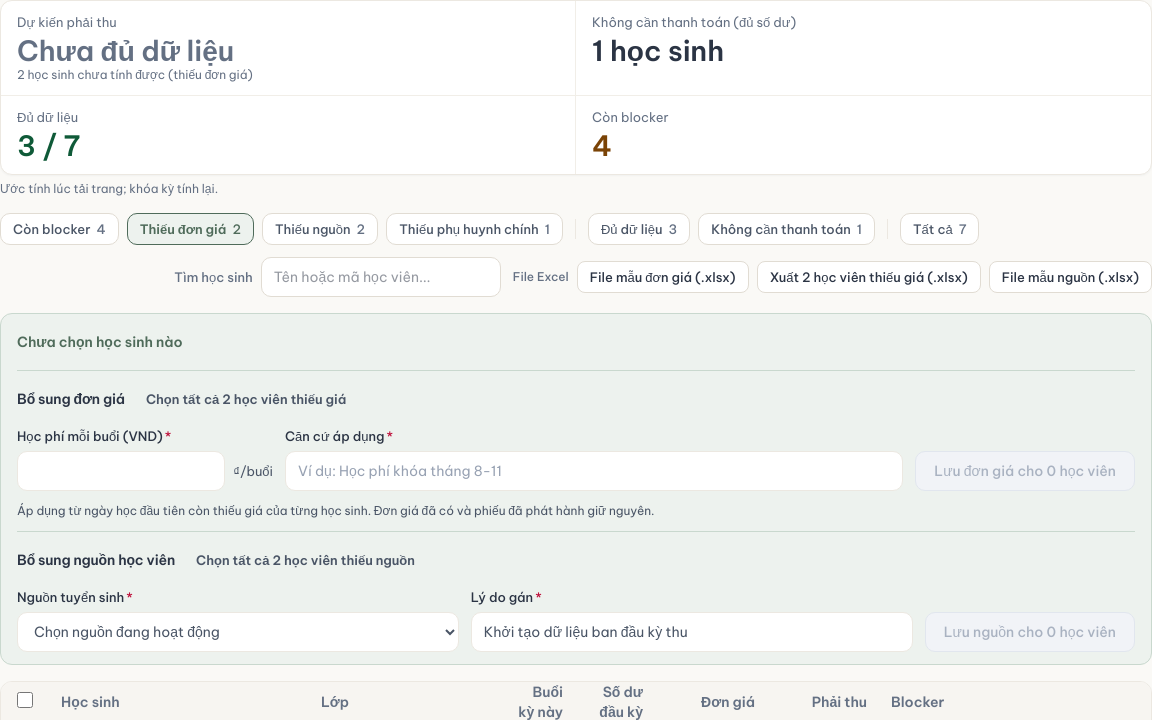
it: TuitionReadinessTable · design 15a › keeps the inputs and alerts on a refused or failed save
Click the button "Chọn tất cả 2 học viên thiếu giá": (246, 399) [133,383,359,415]
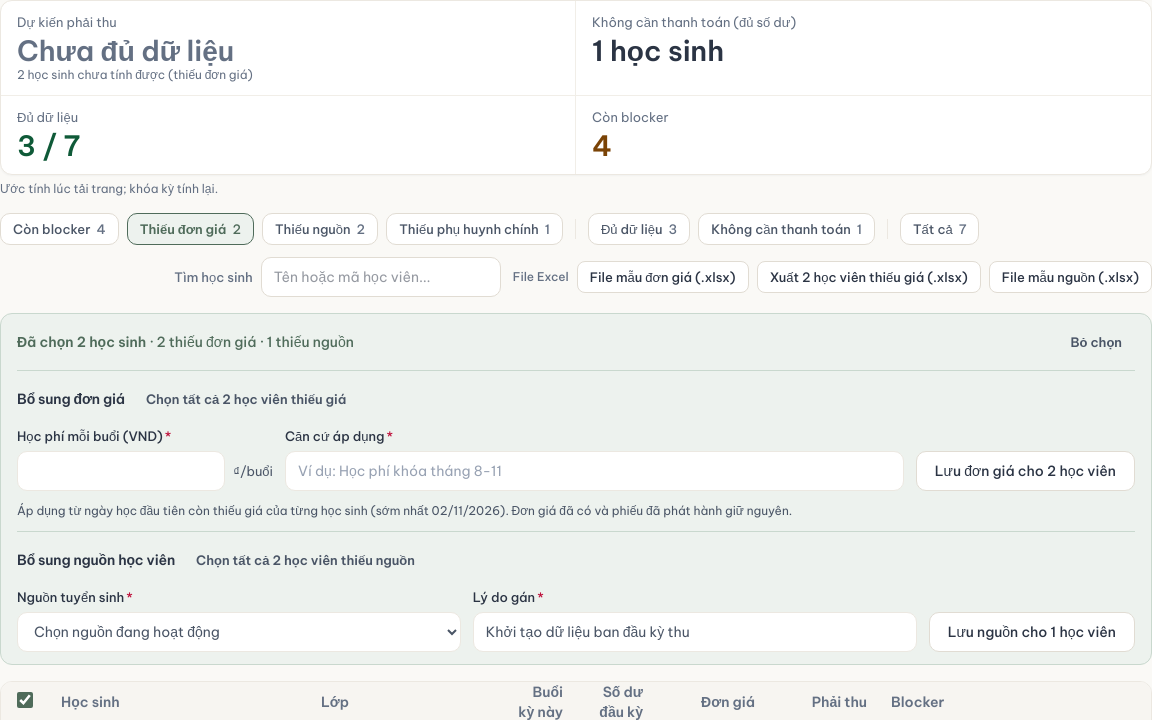
In the number field labelled "Học phí mỗi buổi (VND)": (121, 471) [17,451,225,491], type "220000"
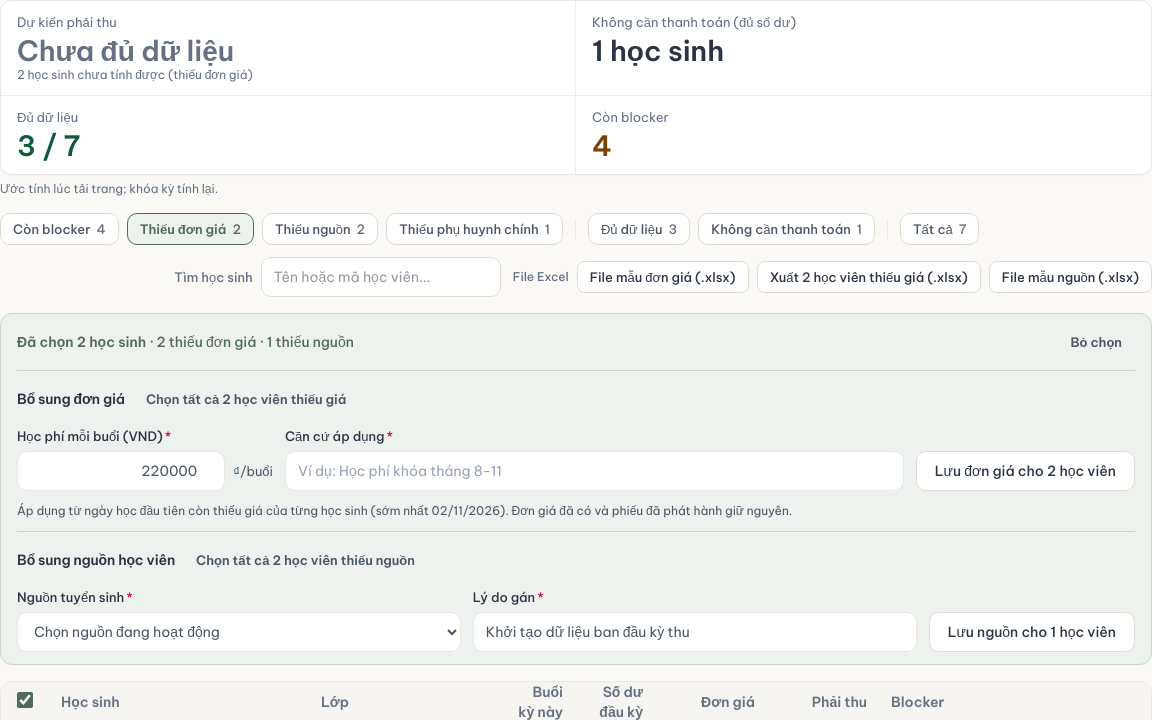
In the field labelled "Căn cứ áp dụng": (594, 471) [285,451,904,491], type "Bổ sung giá"
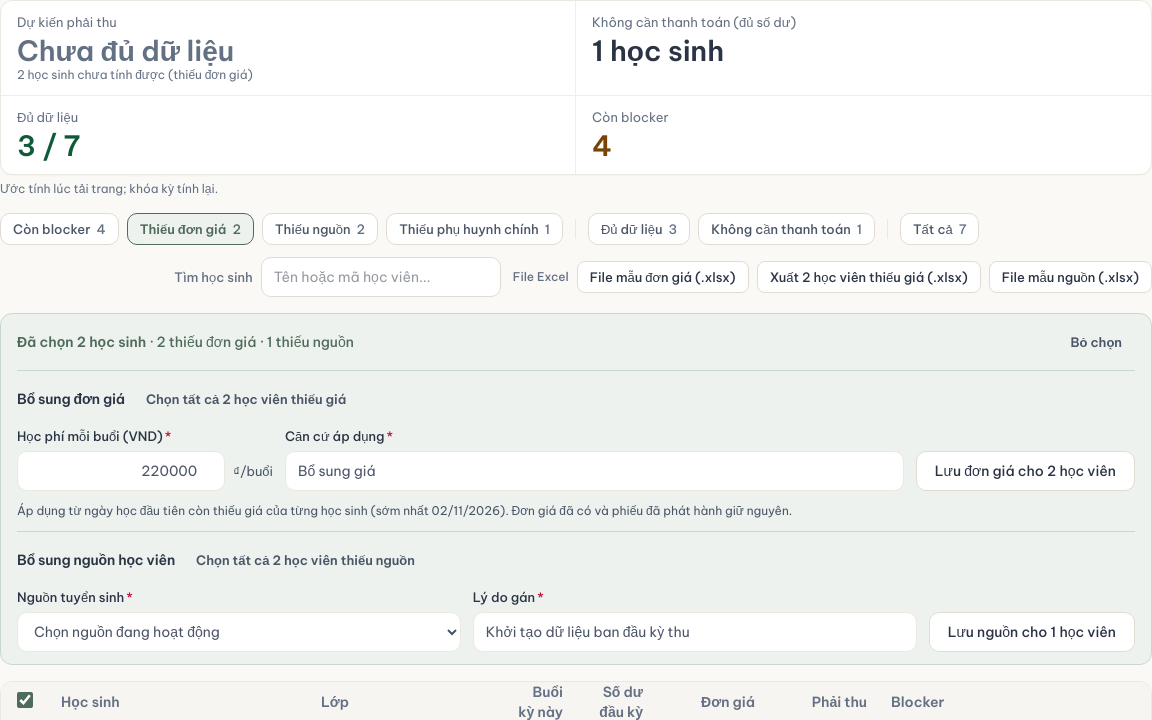
Click the button "Lưu đơn giá cho 2 học viên": (1025, 471) [916,451,1135,491]
(page scrolled)
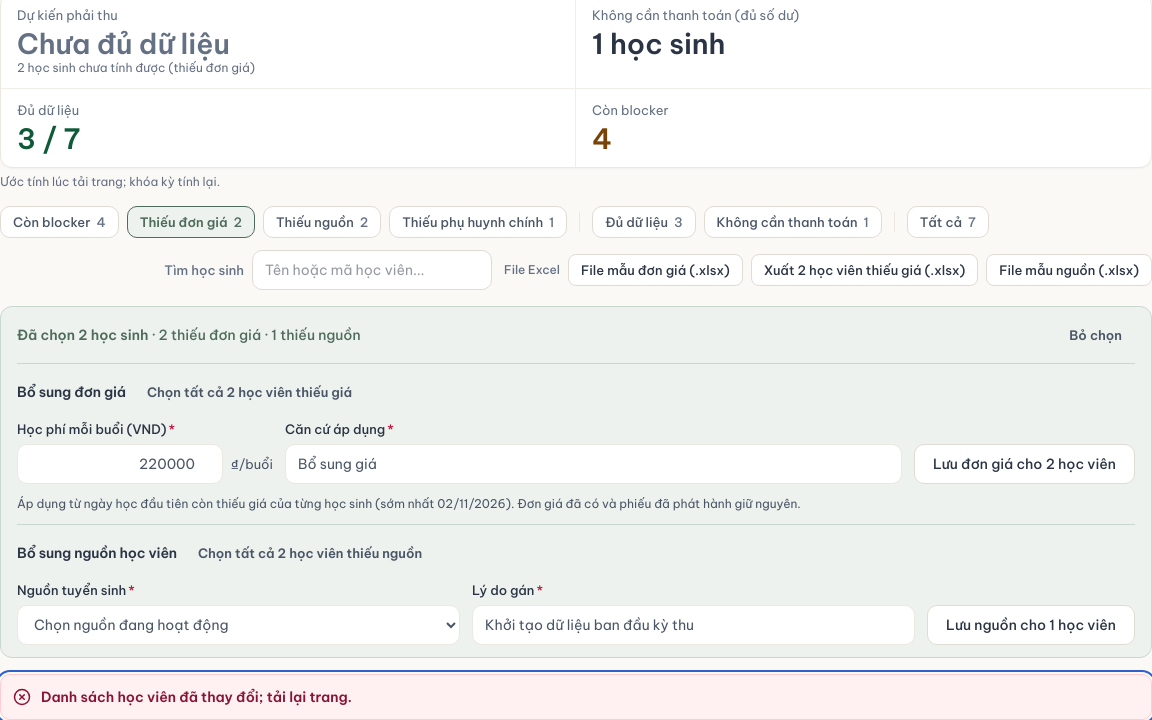
Check: the message reads "Danh sách học viên đã thay đổi; tải lại trang.", box [41,688,352,706]
Click the button "Lưu đơn giá cho 2 học viên": (1024, 464) [914,444,1135,484]
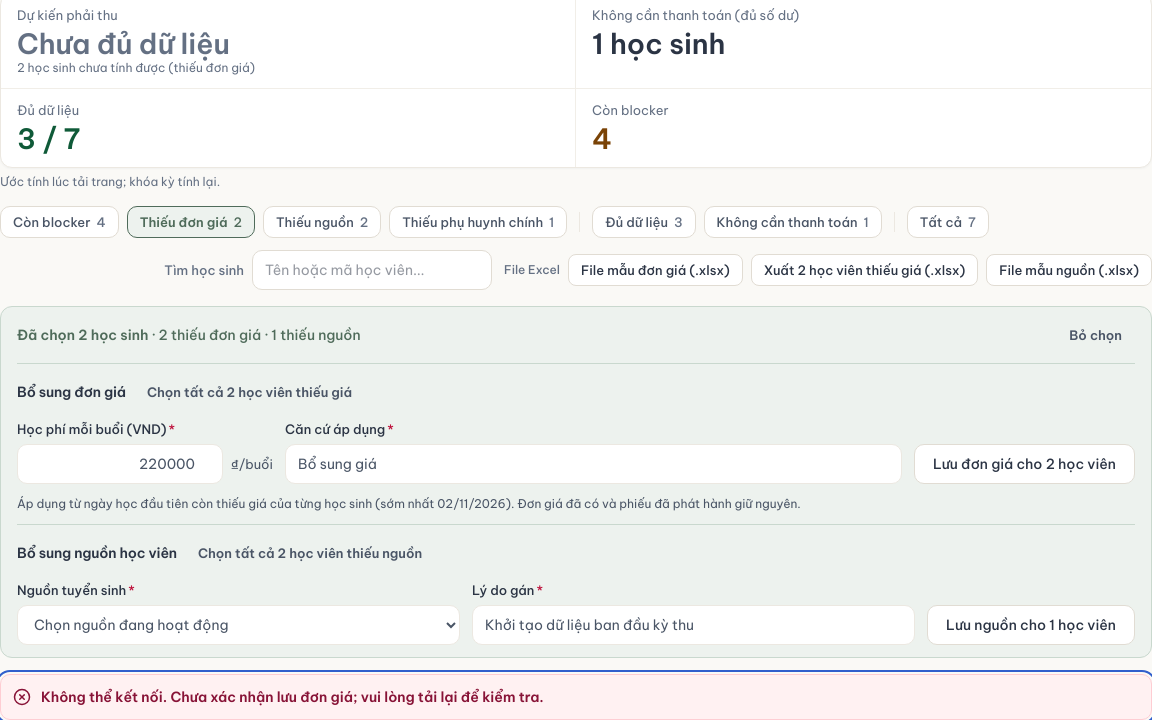
Check: the text "Đã chọn 2 học sinh · 2 thiếu đơn giá · 1 thiếu nguồn" is shown, box [17,325,361,345]
Check: the message reads "Không thể kết nối. Chưa xác nhận lưu đơn giá; vui lòng tải lại để kiểm tra.", box [41,688,544,706]
